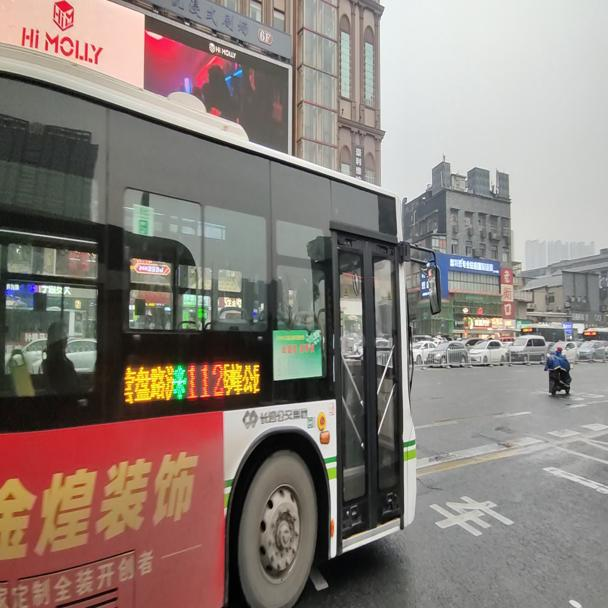bus: (1, 37, 441, 605)
screen: (188, 363, 224, 400)
